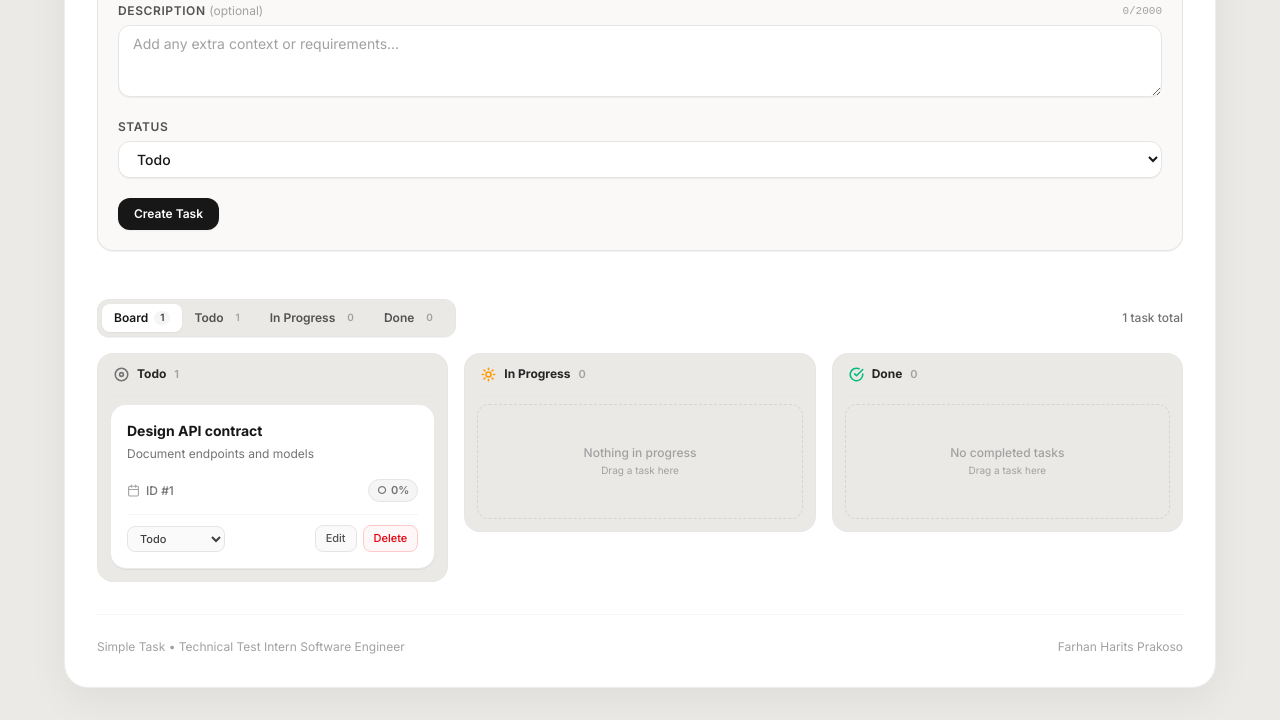
it: Task Tracker App Component Tests (with Axios) › deletes a task after confirmation via Axios DELETE
(page scrolled)
Check: the heading "Design API contract" is shown, box [127,422,262,438]
Click the button with aria-label "delete task": [390, 538] box [363,525,418,552]
(page scrolled)
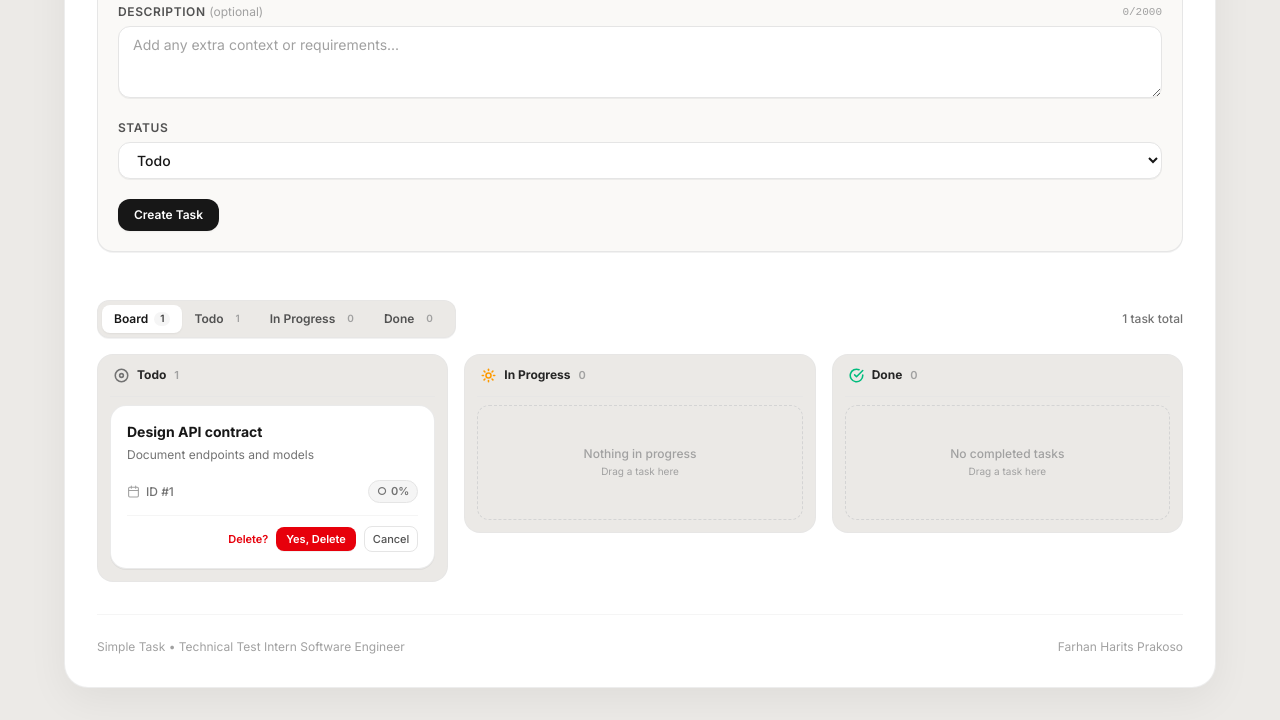
Check: the button "Yes, Delete" is shown
Click the button "Yes, Delete": [316, 539] box [276,527,356,551]
(page scrolled)
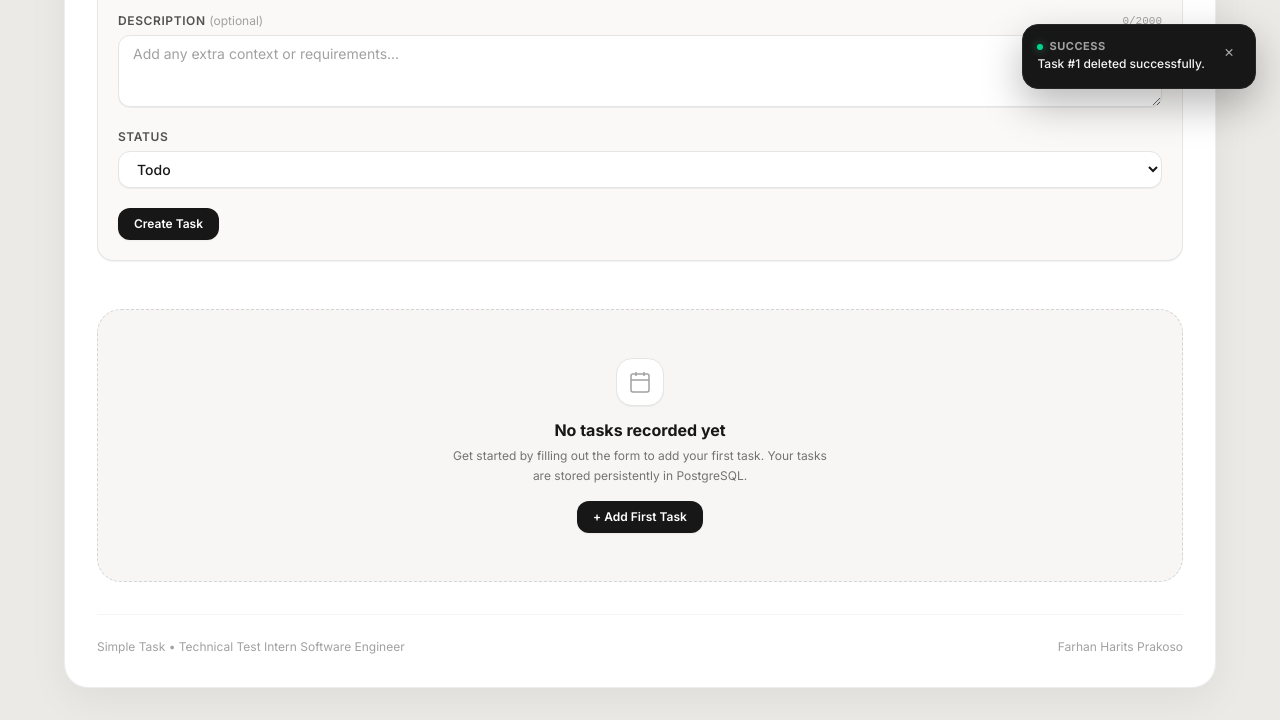
Check: the heading "Design API contract" is gone
